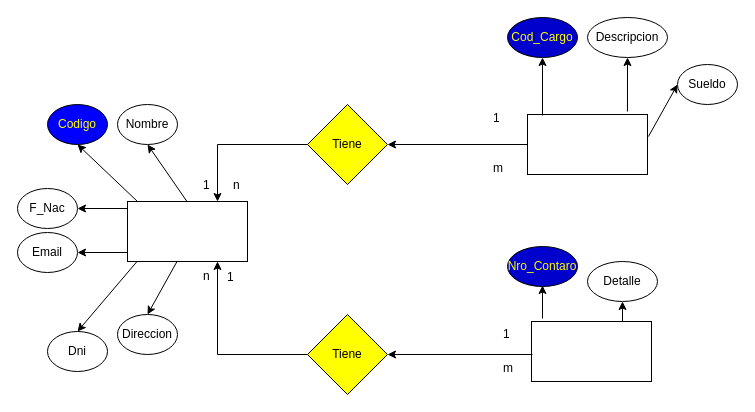
Image size: 755x412. Some labels were removed from this diagram. The centre of each missing label's shape, as x and y in pixels:
"CARGO" belongs at (x=587, y=144).
"CONTRATO" belongs at (x=591, y=351).
"TRABAJADOR" belongs at (x=187, y=231).
